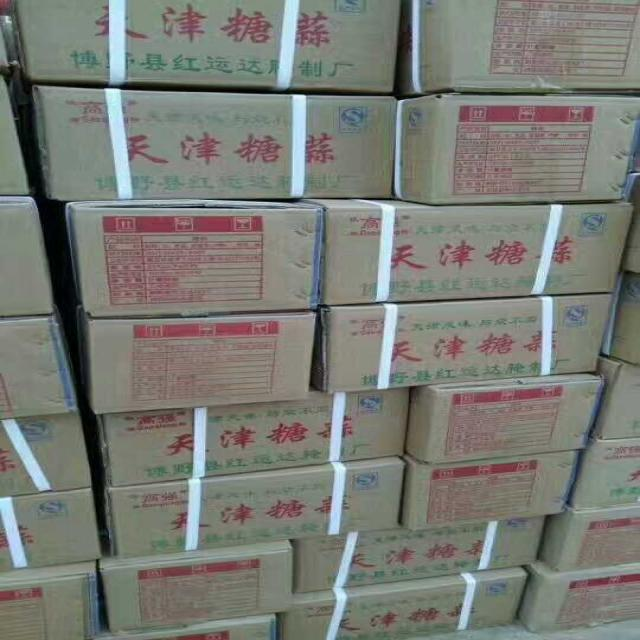Carton: (84, 295, 610, 483), (100, 457, 526, 639), (32, 91, 639, 202), (293, 453, 577, 591), (14, 0, 397, 93), (319, 205, 632, 307), (68, 204, 318, 313), (530, 563, 639, 632), (552, 505, 638, 569)
